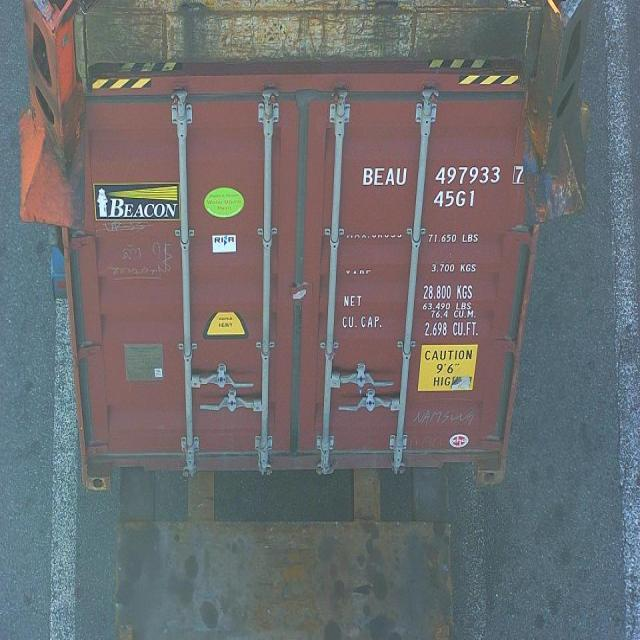ISO: (433, 188, 478, 210)
container_number: (360, 156, 526, 190)
